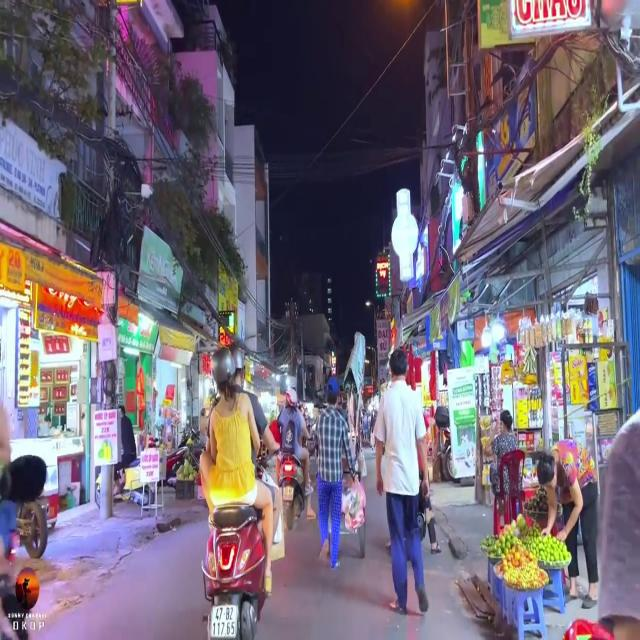bien_trang: (208, 602, 239, 640)
